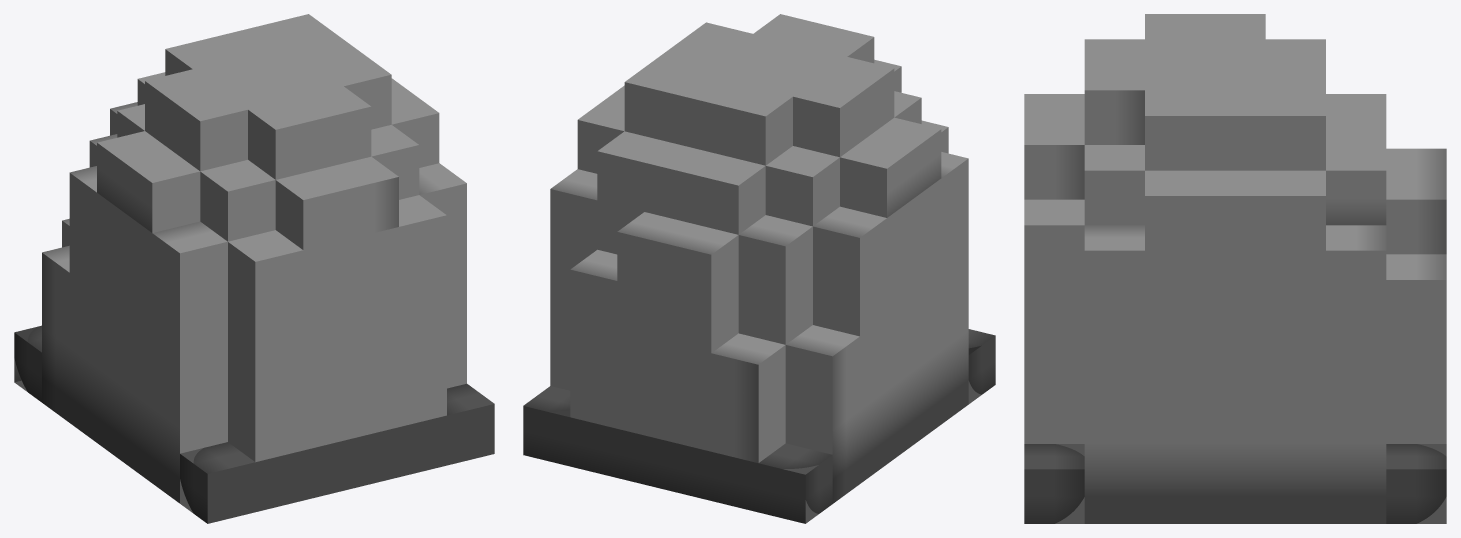
File: Rock1.obj
3 renders of one model, left to right at view 1: azimuth 30°, elevation 25°; view 2: azimuth 150°, elevation 25°; view 3: azimuth 270°, elevation 25°, orthographic. The views are drawn at different scales.
Visible parts, largest first — view 1: Rock1; view 2: Rock1; view 3: Rock1.
Boxes of the visible parts, x1=… form: Rock1: x1=14, y1=14, x2=494, y2=523; Rock1: x1=523, y1=14, x2=995, y2=523; Rock1: x1=1024, y1=14, x2=1446, y2=523.
Size of the model in its own units: 6 by 7 by 7.
1 material, 1 textured.
